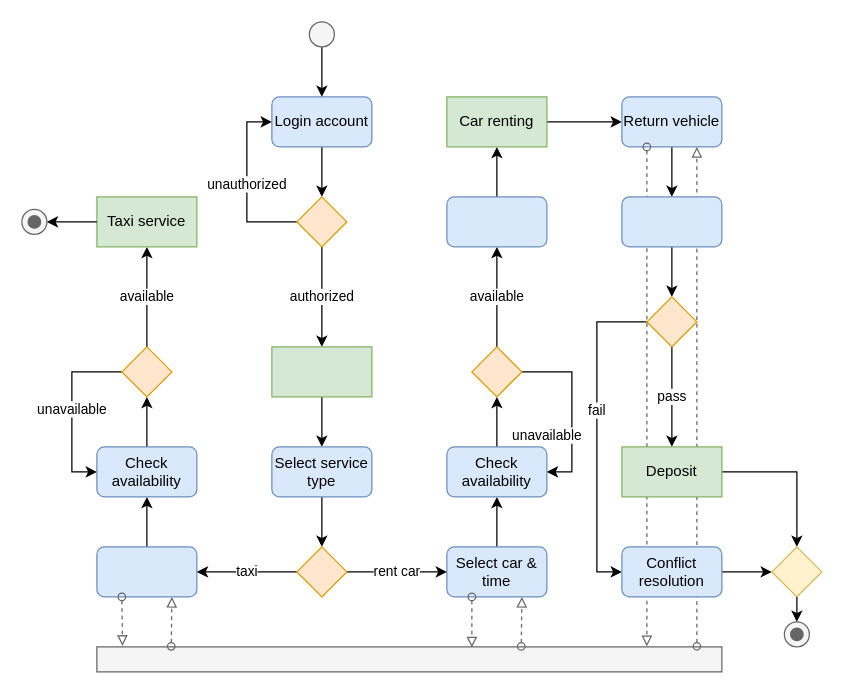
This 844x694 diagram has some shape labels left out. The centre of each missing label's shape, as x and y in pixels:
"Charge deposit" belongs at (496,221).
"Customer" belongs at (409,659).
"Inspect vehicle" belongs at (671,221).
"Main menu" belongs at (321,371).
"Select time" belongs at (146,571).
